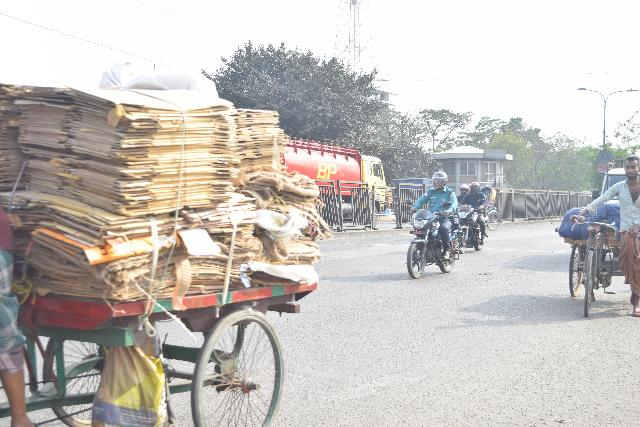motorcycle: (398, 189, 459, 283), (456, 183, 494, 256)
truck: (279, 139, 389, 221)
